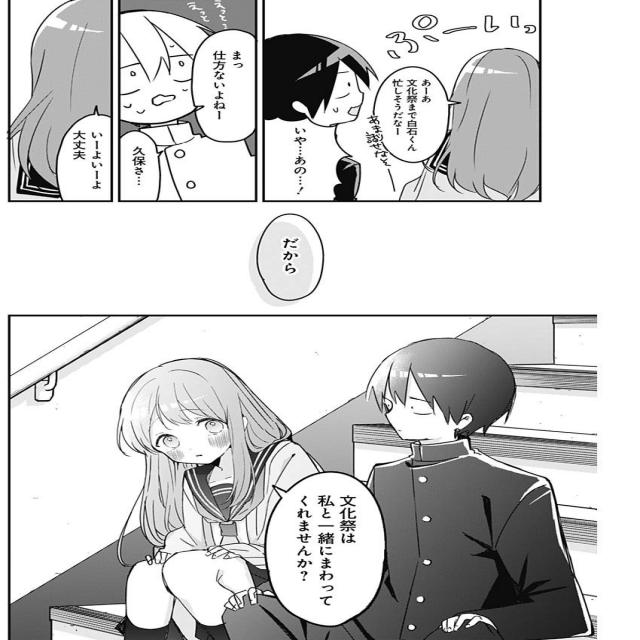Bubble: (266, 470, 386, 628), (191, 28, 258, 143), (373, 65, 451, 163), (255, 212, 327, 303), (56, 111, 113, 201), (115, 128, 161, 204)
